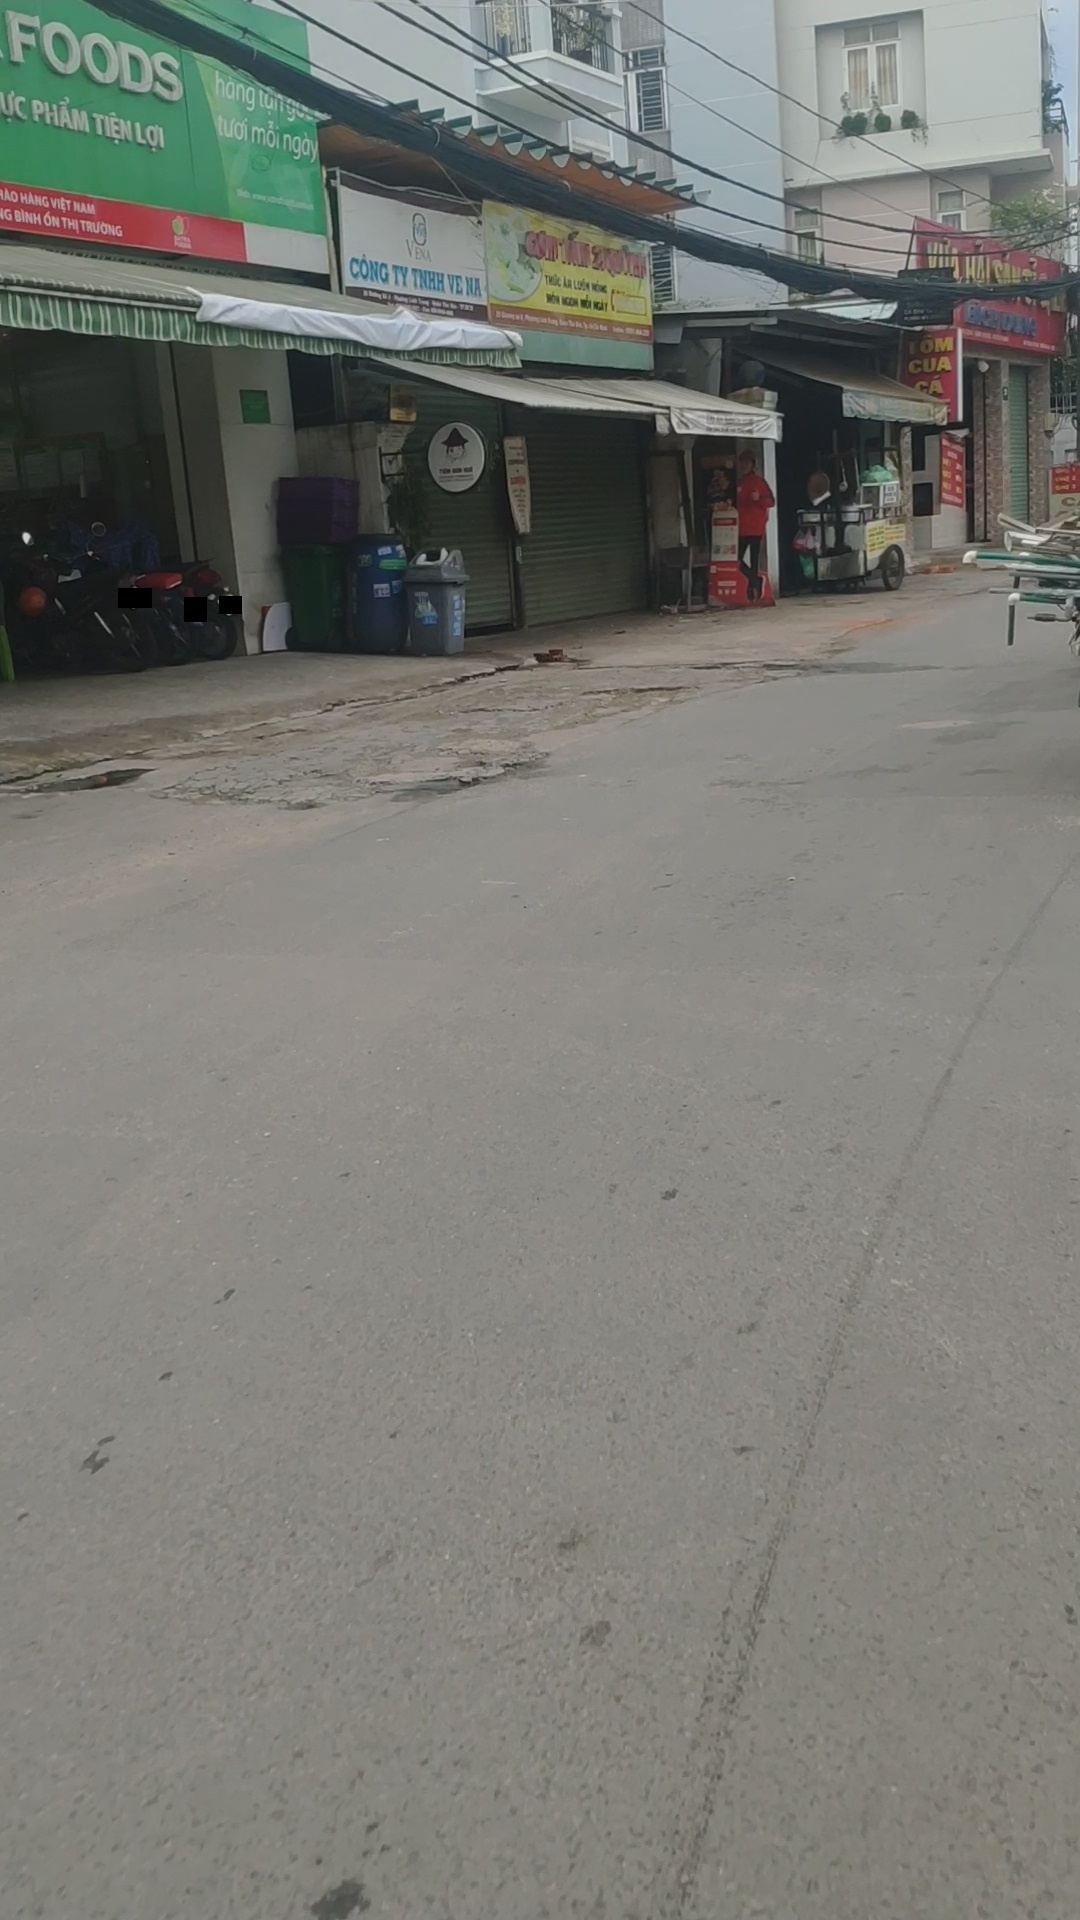hole: (16, 764, 162, 798), (422, 756, 545, 789), (580, 680, 696, 700), (754, 659, 819, 676)
